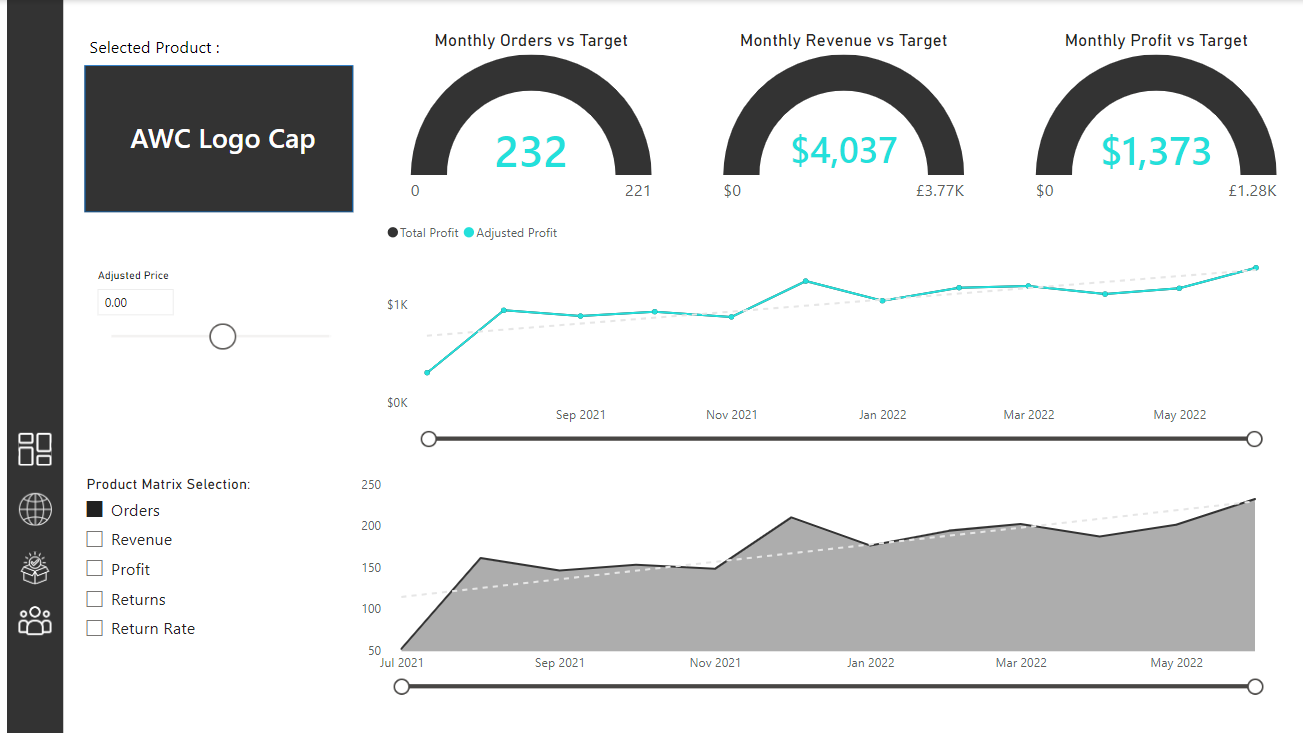

The dashboard page shown, as its layout file describes it:
{"tool":"powerbi","page":{"name":"Product","canvas":[1280,720],"ordinal":2},"visuals":[{"type":"shape","title":"Left Nav bg","box":[10,0,55,720.2],"z":0,"group":"g1"},{"type":"gauge","title":"Monthly Orders vs Target","fields":{"Y":["Measure Lists.Total Orders"],"MaxValue":["Measure Lists.Monthly Orders Target"]},"box":[376.6,29.3,292.3,178.5],"z":0},{"type":"gauge","title":"Monthly Revenue vs Target","fields":{"Y":["Measure Lists.Total Revenue"],"MaxValue":["Measure Lists.Monthly Revenue Target"]},"box":[682.3,29.3,292.3,178.5],"z":1000},{"type":"gauge","title":"Monthly Profit vs Target","fields":{"Y":["Measure Lists.Total Profit"],"MaxValue":["Measure Lists.Monthly Profit Target"]},"box":[988,29.3,292.3,178.5],"z":2000},{"type":"actionButton","box":[0,0,55,40.4],"z":3000},{"type":"actionButton","title":"Customer Button","box":[10,587,55,40.4],"z":3000,"group":"g1"},{"type":"shape","box":[85.6,63.6,262.9,144.3],"z":4000},{"type":"actionButton","title":"Products Button","box":[10,535.6,55,40.4],"z":4000,"group":"g1"},{"type":"card","fields":{"Values":["Min(Product Lookup.ProductName)"]},"box":[94.2,67.3,254.3,137],"z":5000},{"type":"actionButton","title":"Map Button","box":[11.2,478.1,53.8,40.4],"z":5000,"group":"g1"},{"type":"textbox","box":[85.6,29.3,262.9,34.2],"z":6000},{"type":"actionButton","title":"Home Button","box":[10,419.4,55,40.4],"z":6000,"group":"g1"},{"type":"lineChart","fields":{"Category":["Calendar Lookup.Date Hierarchy.Date","Calendar Lookup.Date Hierarchy.Month","Calendar Lookup.Date Hierarchy.Month Name","Calendar Lookup.Date Hierarchy.Day","Calendar Lookup.Date Hierarchy.Start of Month","Calendar Lookup.Date Hierarchy.Quarter"],"Y":["Measure Lists.Total Profit","Measure Lists.Adjusted Profit"]},"box":[376.6,207.9,885.3,232.3],"z":7000},{"type":"slicer","fields":{"Values":["Product Matrix Selection:.Product Matrix Selection:"]},"box":[74.6,459.8,220.1,222.6],"z":8000},{"type":"areaChart","fields":{"Y":["Measure Lists.Return Rate"],"Category":["Calendar Lookup.Date Hierarchy.Date","Calendar Lookup.Date Hierarchy.Month","Calendar Lookup.Date Hierarchy.Month Name","Calendar Lookup.Date Hierarchy.Day","Calendar Lookup.Date Hierarchy.Start of Month","Calendar Lookup.Date Hierarchy.Quarter"]},"box":[351,459.8,911,222.6],"z":9000},{"type":"slicer","fields":{"Values":["Adjusted Price.Adjusted Price"]},"box":[85.6,258,262.9,130.8],"z":10000},{"type":"group","id":"g1","title":"Side Bar Panel","box":[10,0,55,720.2],"z":11000}]}

Visuals, with their boxes in screenshot pixels (x1, y1, x2, y2), scaled from the page's 1280x720 canvas onto the 1303x733 screenshot:
"Left Nav bg" shape: detection(10, 0, 66, 732)
"Monthly Orders vs Target" gauge: detection(383, 30, 681, 212)
"Monthly Revenue vs Target" gauge: detection(695, 30, 992, 212)
"Monthly Profit vs Target" gauge: detection(1006, 30, 1302, 212)
actionButton: detection(0, 0, 56, 41)
"Customer Button" actionButton: detection(10, 598, 66, 639)
shape: detection(87, 65, 355, 212)
"Products Button" actionButton: detection(10, 545, 66, 586)
card - Min(Product Lookup.ProductName): detection(96, 69, 355, 208)
"Map Button" actionButton: detection(11, 487, 66, 528)
textbox: detection(87, 30, 355, 65)
"Home Button" actionButton: detection(10, 427, 66, 468)
lineChart - Calendar Lookup.Date Hierarchy.Date x Calendar Lookup.Date Hierarchy.Month: detection(383, 212, 1285, 448)
slicer - Product Matrix Selection:.Product Matrix Selection:: detection(76, 468, 300, 695)
areaChart - Measure Lists.Return Rate x Calendar Lookup.Date Hierarchy.Date: detection(357, 468, 1285, 695)
slicer - Adjusted Price.Adjusted Price: detection(87, 263, 355, 396)
"Side Bar Panel" group: detection(10, 0, 66, 732)
